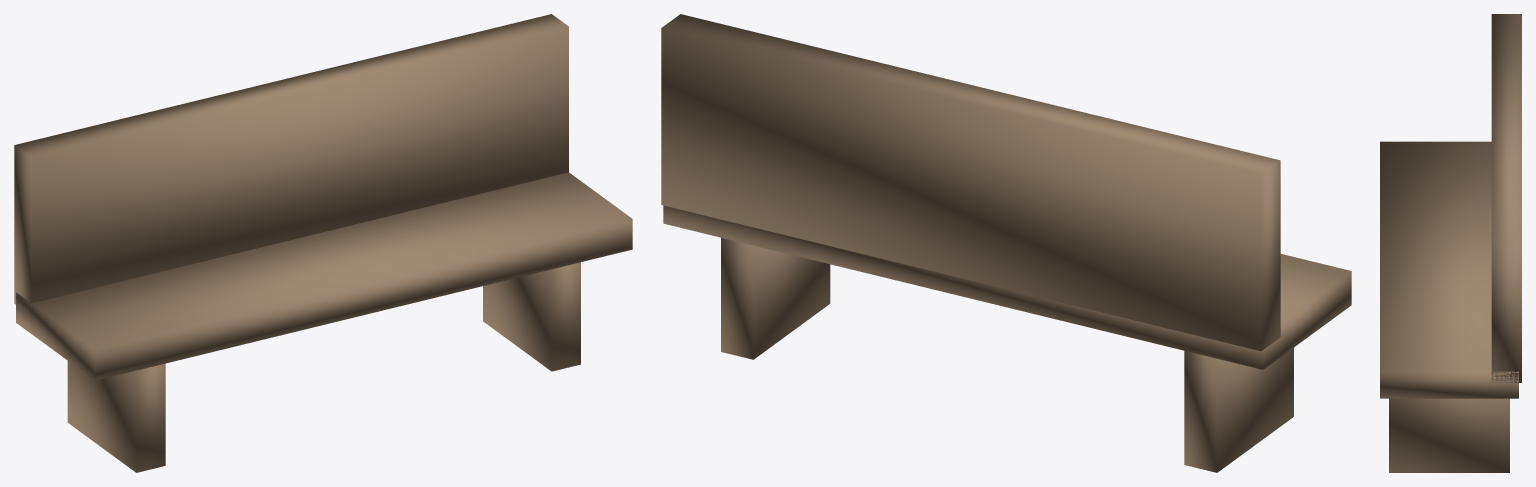
The model's file is church_pew__deep.glb.
The picture shows the model from 3 angles, left to right: view 1: azimuth 30°, elevation 25°; view 2: azimuth 150°, elevation 25°; view 3: azimuth 270°, elevation 25°; orthographic projection. The views are drawn at different scales.
Parts seen in each view (by area): view 1: world; view 2: world; view 3: world.
Part boxes in pixels (x1,y1,x2,y2): world: (14,14,632,472); world: (661,14,1351,472); world: (1380,14,1521,472).
Size of the model in its own units: 2.2 by 1.11 by 0.5734.
